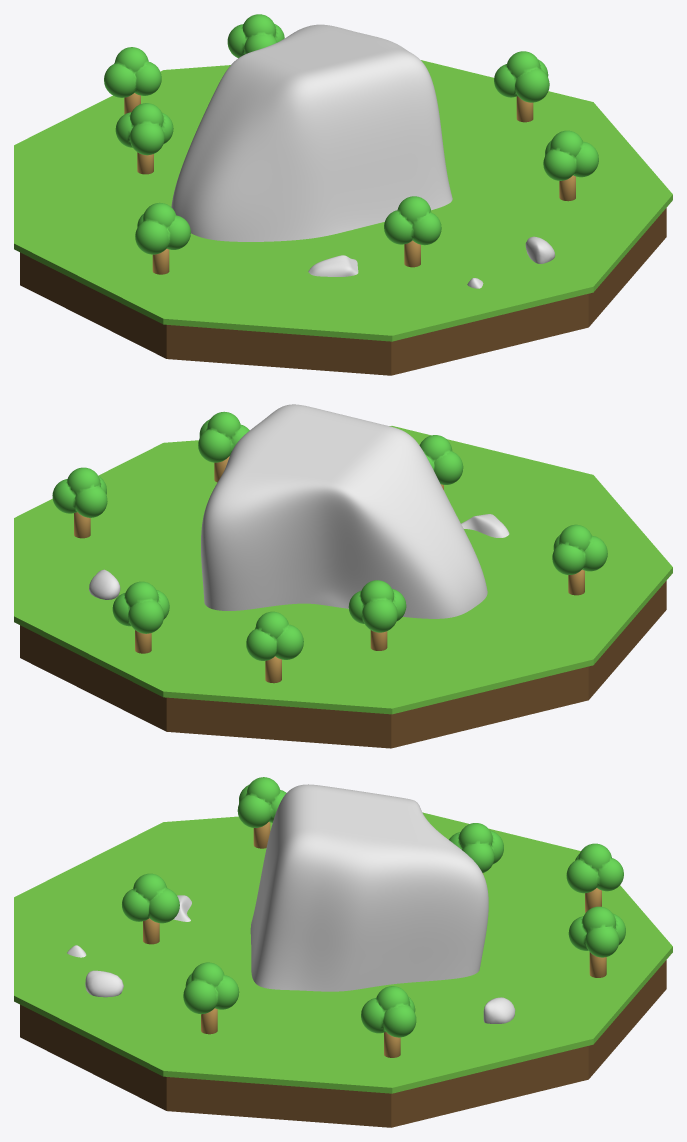
File: ile_moyenne_herbe_1.fbx
3 renders of one model, top to bottom at view 1: azimuth 30°, elevation 25°; view 2: azimuth 150°, elevation 25°; view 3: azimuth 270°, elevation 25°, orthographic.
Parts seen in each view (by area): view 1: herbe, MEGA CAILLOU, terre, feuille 2, feuille 1, feuille 3, feuille 6, feuille 5, feuille 4, feuille 7, pierre.003, pierre; view 2: herbe, MEGA CAILLOU, terre, feuille 2, feuille 7, feuille 1, feuille 3, feuille 6, feuille 5, feuille 4, pierre.003, pierre.002; view 3: herbe, MEGA CAILLOU, terre, feuille 6, feuille 5, feuille 7, feuille 4, feuille 1, feuille 3, feuille 2, pierre, pierre.002.
Boxes of the visible parts, x1=… form: herbe: x1=14, y1=60, x2=672, y2=341; MEGA CAILLOU: x1=171, y1=24, x2=452, y2=241; terre: x1=20, y1=208, x2=666, y2=375; feuille 2: x1=115, y1=103, x2=173, y2=155; feuille 1: x1=104, y1=47, x2=161, y2=97; feuille 3: x1=135, y1=202, x2=190, y2=254; feuille 6: x1=494, y1=51, x2=549, y2=102; feuille 5: x1=543, y1=130, x2=598, y2=180; feuille 4: x1=384, y1=196, x2=441, y2=245; feuille 7: x1=227, y1=14, x2=284, y2=58; pierre.003: x1=308, y1=255, x2=358, y2=276; pierre: x1=525, y1=236, x2=555, y2=263; herbe: x1=14, y1=426, x2=672, y2=714; MEGA CAILLOU: x1=201, y1=404, x2=487, y2=618; terre: x1=20, y1=581, x2=666, y2=748; feuille 2: x1=348, y1=580, x2=406, y2=632; feuille 7: x1=112, y1=581, x2=169, y2=633; feuille 1: x1=246, y1=611, x2=303, y2=660; feuille 3: x1=552, y1=524, x2=607, y2=574; feuille 6: x1=52, y1=467, x2=107, y2=517; feuille 5: x1=198, y1=411, x2=249, y2=462; feuille 4: x1=419, y1=435, x2=463, y2=484; pierre.003: x1=461, y1=514, x2=509, y2=537; pierre.002: x1=89, y1=569, x2=120, y2=599; herbe: x1=14, y1=812, x2=672, y2=1093; MEGA CAILLOU: x1=250, y1=784, x2=488, y2=991; terre: x1=20, y1=960, x2=666, y2=1127; feuille 6: x1=361, y1=986, x2=416, y2=1037; feuille 5: x1=183, y1=962, x2=239, y2=1014; feuille 7: x1=568, y1=906, x2=625, y2=957; feuille 4: x1=122, y1=873, x2=179, y2=923; feuille 1: x1=566, y1=843, x2=623, y2=893; feuille 3: x1=237, y1=777, x2=286, y2=827; feuille 2: x1=449, y1=823, x2=503, y2=872; pierre: x1=85, y1=970, x2=123, y2=997; pierre.002: x1=483, y1=997, x2=515, y2=1023.
Bounding box in the file's own units: 3189 × 951 × 3141.
